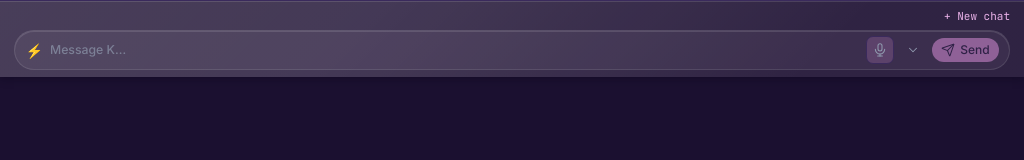
Test case: MessageDock dispatch semantics › shows the deterministic route preview while typing
Type "fix the login bug" into the field with test id "dock-input" at (454,50), box [50,41,859,59]
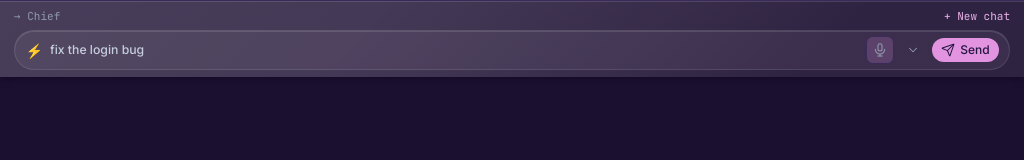
Expected: the text with test id "dock-route-preview" reads "→ Chief", [14,8,60,24]
